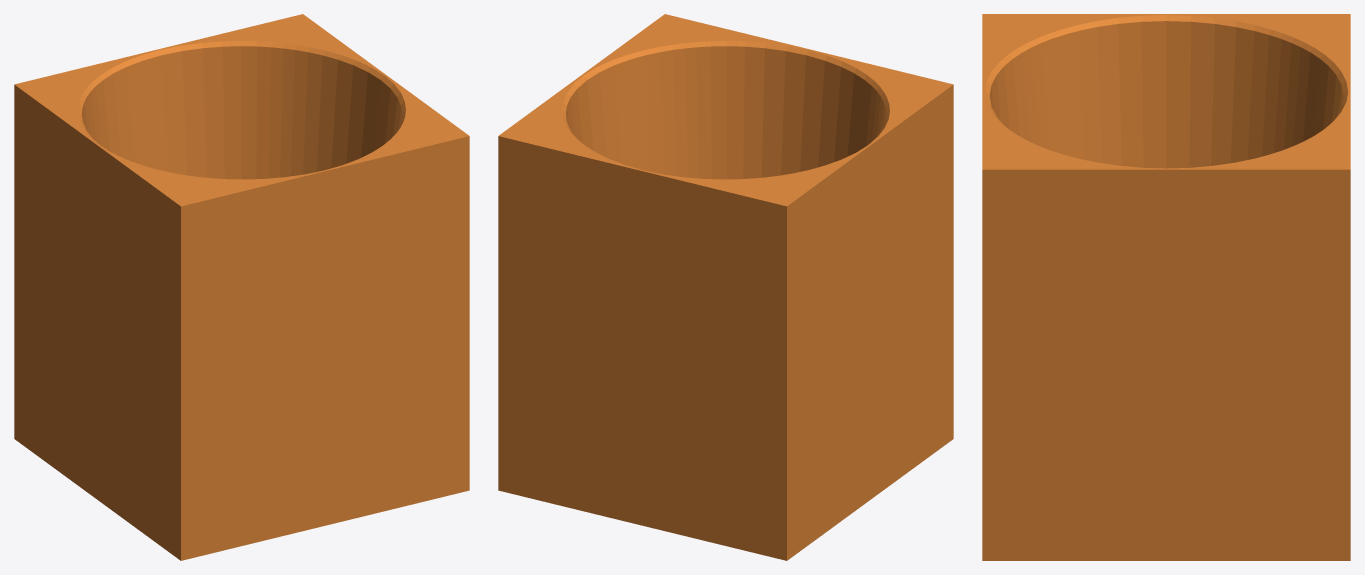
The model's file is basic_cup.glb.
3 views of the same model, side by side, from view 1: azimuth 30°, elevation 25°; view 2: azimuth 150°, elevation 25°; view 3: azimuth 270°, elevation 25° (orthographic). The views are drawn at different scales.
Visible parts, largest first — view 1: cup; view 2: cup; view 3: cup.
Boxes of the visible parts, left/top/right/bottom form: cup: left=14, top=14, right=469, bottom=560; cup: left=498, top=14, right=953, bottom=560; cup: left=982, top=14, right=1350, bottom=560.
Size of the model in its own units: 3.53 by 4.14 by 3.53.
